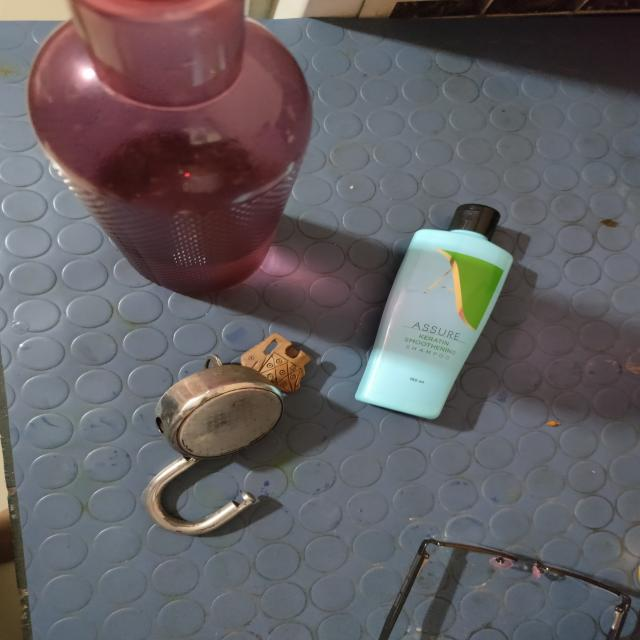metal: (106, 348, 340, 537)
plastic: (0, 8, 355, 304), (373, 187, 531, 431)
